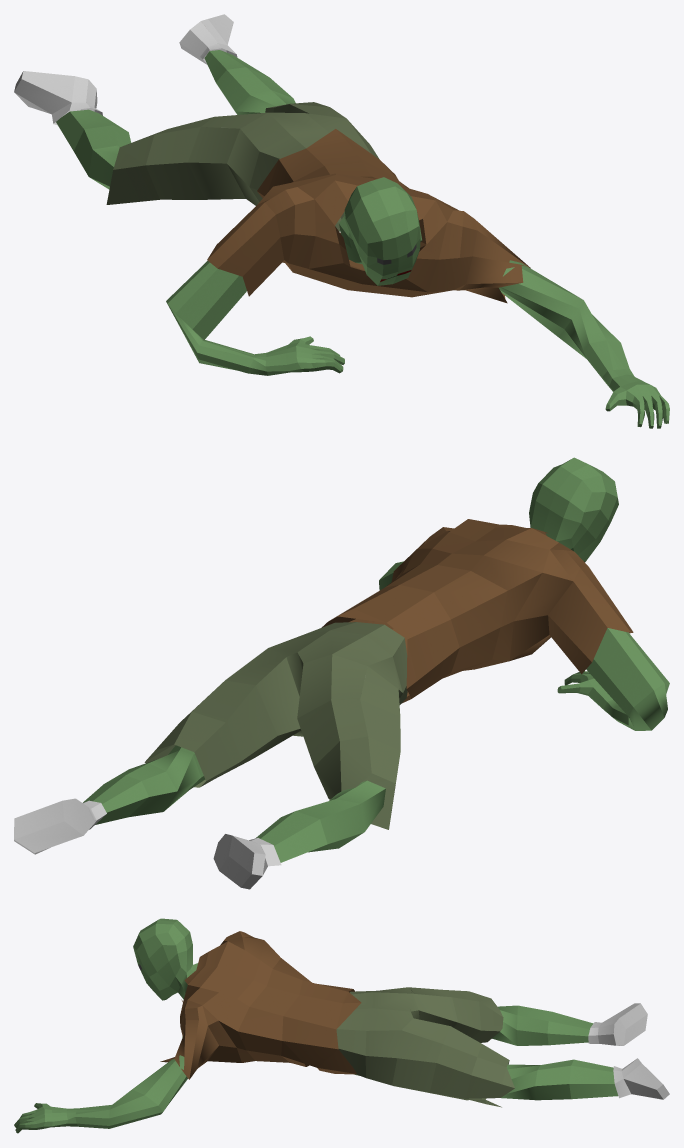
File: ZombieCrawl(119).obj
3 renders of one model, top to bottom at view 1: azimuth 30°, elevation 25°; view 2: azimuth 150°, elevation 25°; view 3: azimuth 270°, elevation 25°, orthographic. The views are drawn at different scales.
Parts seen in each view (by area): view 1: Object001; view 2: Object001; view 3: Object001.
Part boxes in pixels (x1,y1,x2,y2): Object001: [14, 14, 669, 428]; Object001: [14, 457, 669, 889]; Object001: [14, 918, 669, 1133].
Size of the model in its own units: 32.07 by 18.43 by 72.54.
